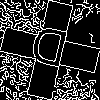D: (25, 25, 71, 77)
